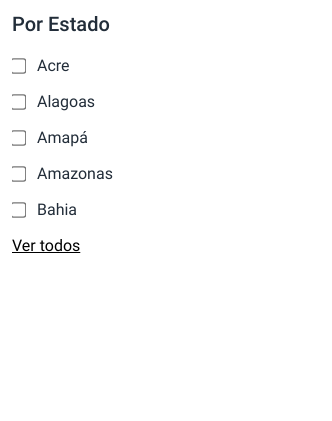
StateFilter › should show more items when user clicks on show more button
Click the button with test id "state-filter-show-more" at (46, 246), box x1=12 y1=232 x2=80 y2=260
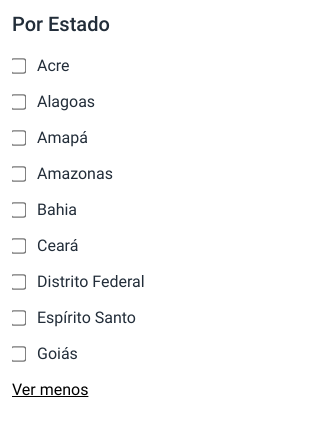
Expected: the text "acre" is shown, x1=37 y1=52 x2=70 y2=80
Now the button "Ver menos" is shown, box x1=12 y1=376 x2=88 y2=404
